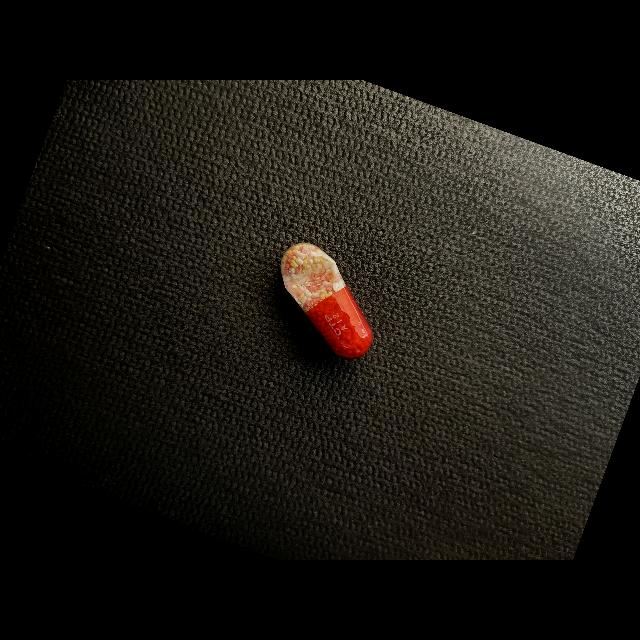Defective Capsule: (280, 243, 373, 359)
